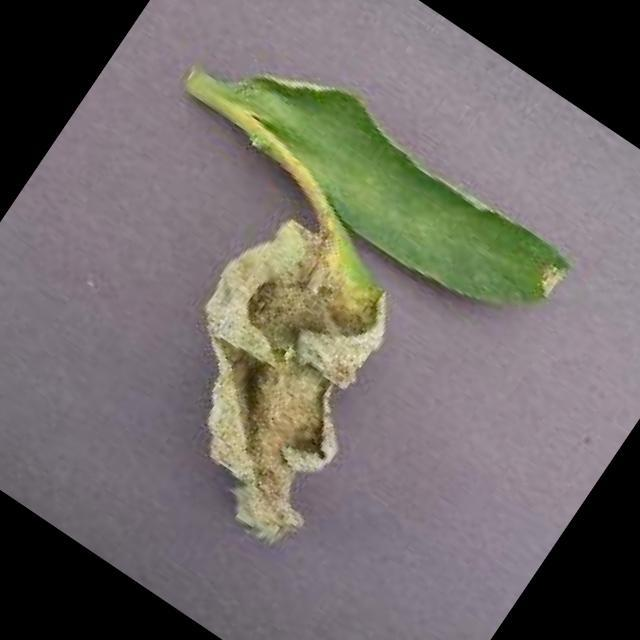Tomato late blight leaf: (102, 191, 452, 564)
